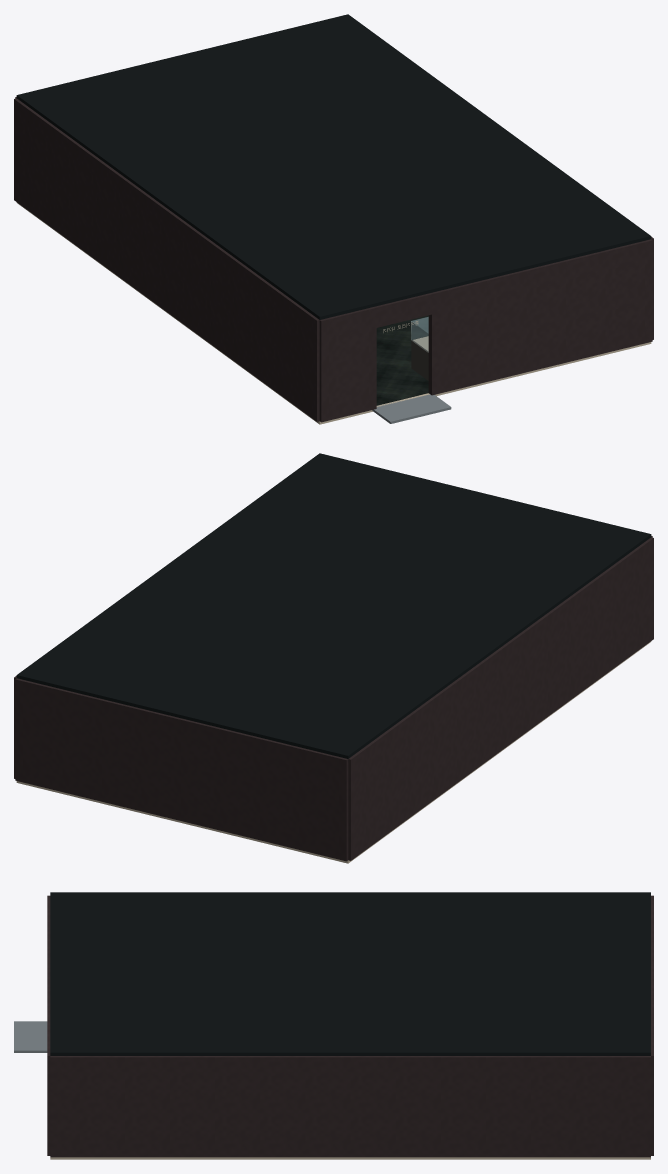
Rendered from yeongsanpo-history.glb.
The picture shows the model from 3 angles, top to bottom: view 1: azimuth 30°, elevation 25°; view 2: azimuth 150°, elevation 25°; view 3: azimuth 270°, elevation 25°; orthographic projection.
Parts seen in each view (by area): view 1: cutaway_ceiling, v79_batch_Y79_plaster_0_0_0, ground_floor_river_finish, walk-floor_exit, ground_floor_interior; view 2: cutaway_ceiling, v79_batch_Y79_plaster_0_0_0, ground_floor_interior; view 3: cutaway_ceiling, v79_batch_Y79_plaster_0_0_0, ground_floor_interior, walk-floor_exit.
Part boxes in pixels (x1,y1,x2,y2): cutaway_ceiling: (16, 14, 651, 319); v79_batch_Y79_plaster_0_0_0: (14, 97, 653, 422); ground_floor_river_finish: (376, 315, 428, 405); walk-floor_exit: (372, 394, 451, 423); ground_floor_interior: (16, 202, 651, 424); cutaway_ceiling: (16, 453, 651, 758); v79_batch_Y79_plaster_0_0_0: (14, 536, 653, 861); ground_floor_interior: (16, 641, 651, 863); cutaway_ceiling: (50, 892, 650, 1055); v79_batch_Y79_plaster_0_0_0: (47, 895, 653, 1157); ground_floor_interior: (50, 1157, 650, 1159); walk-floor_exit: (14, 1021, 47, 1052).
Size of the model in its own units: 12.2 by 3.73 by 20.25.
126 materials, 12 textured.
